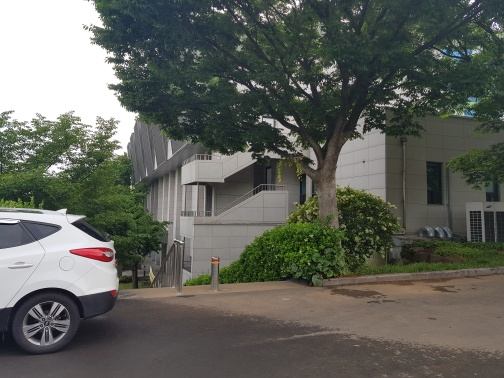Gym: (122, 70, 500, 267), (130, 89, 296, 290), (344, 107, 501, 246)
